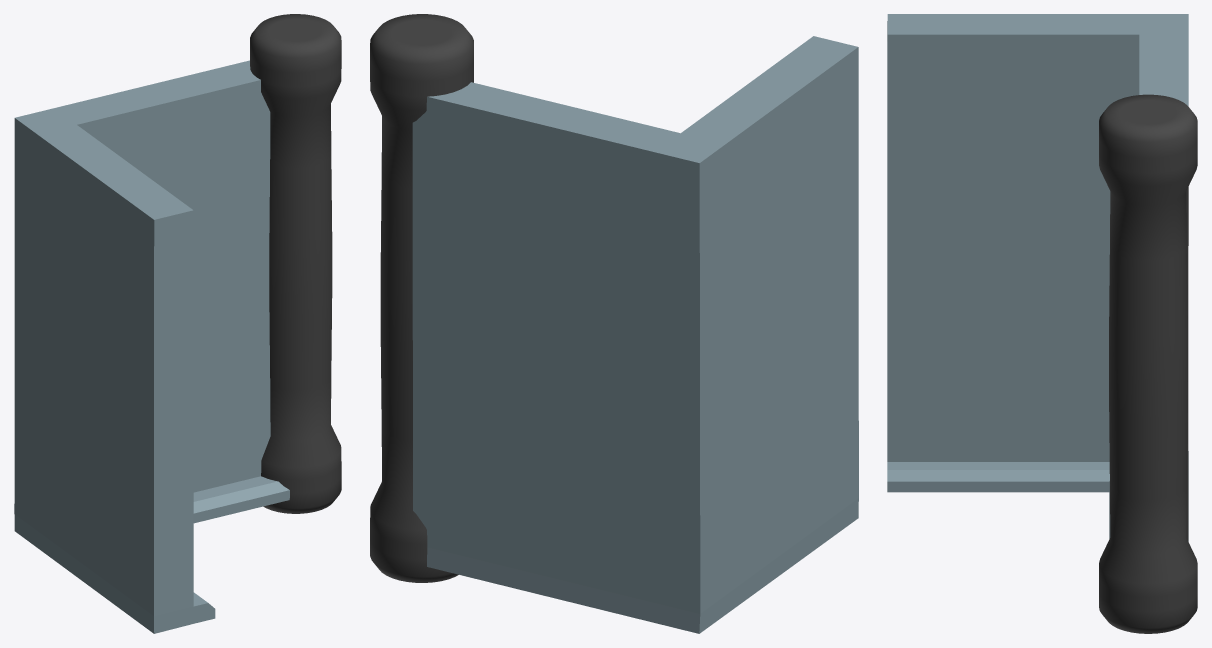
The model's file is small wall corner 1 pillar.fbx.
3 views of the same model, side by side, from view 1: azimuth 30°, elevation 25°; view 2: azimuth 150°, elevation 25°; view 3: azimuth 270°, elevation 25° (orthographic). The views are drawn at different scales.
Visible parts, largest first — view 1: Coner_wall_small_1_pillar; view 2: Coner_wall_small_1_pillar; view 3: Coner_wall_small_1_pillar.
Boxes of the visible parts, bbox=[...] form: Coner_wall_small_1_pillar: bbox=[14, 14, 341, 633]; Coner_wall_small_1_pillar: bbox=[370, 14, 858, 633]; Coner_wall_small_1_pillar: bbox=[887, 14, 1197, 633].
Bounding box in the file's own units: 598 × 881 × 492.
